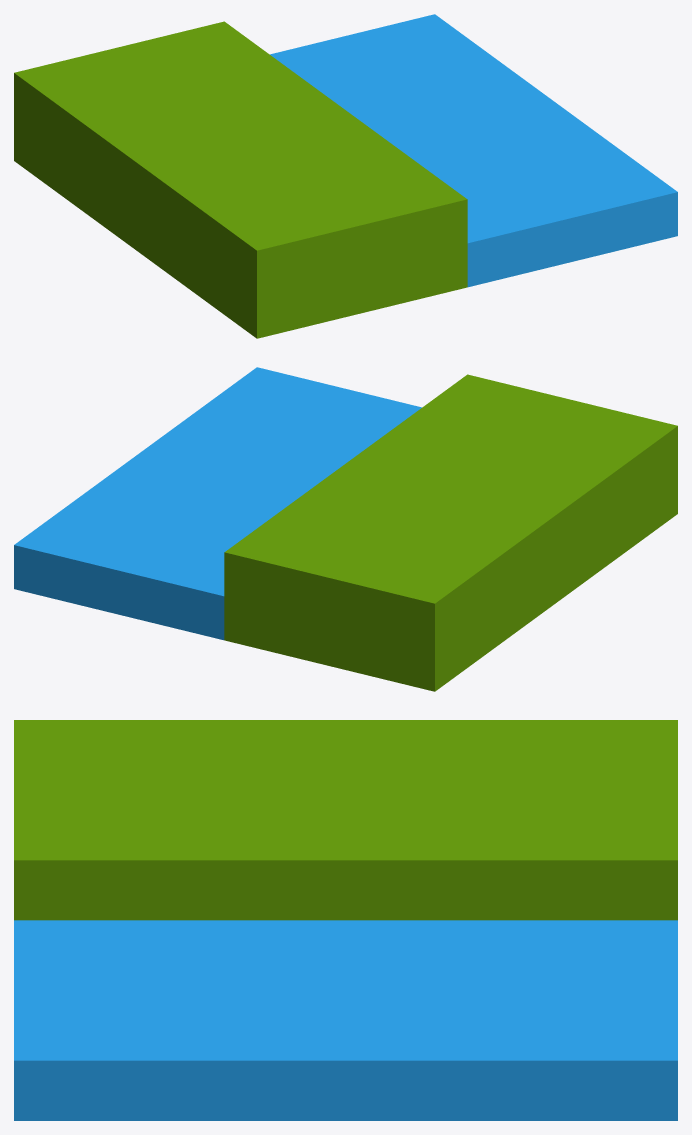
File: TileWater_17.fbx
3 views of the same model, one above another, from view 1: azimuth 30°, elevation 25°; view 2: azimuth 150°, elevation 25°; view 3: azimuth 270°, elevation 25° (orthographic). The views are drawn at different scales.
Parts seen in each view (by area): view 1: TileWater_17; view 2: TileWater_17; view 3: TileWater_17.
Part boxes in pixels (x1,y1,x2,y2): TileWater_17: (14,14,677,338); TileWater_17: (14,367,677,691); TileWater_17: (14,720,677,1120).
Size of the model in its own units: 500 by 100 by 500.
